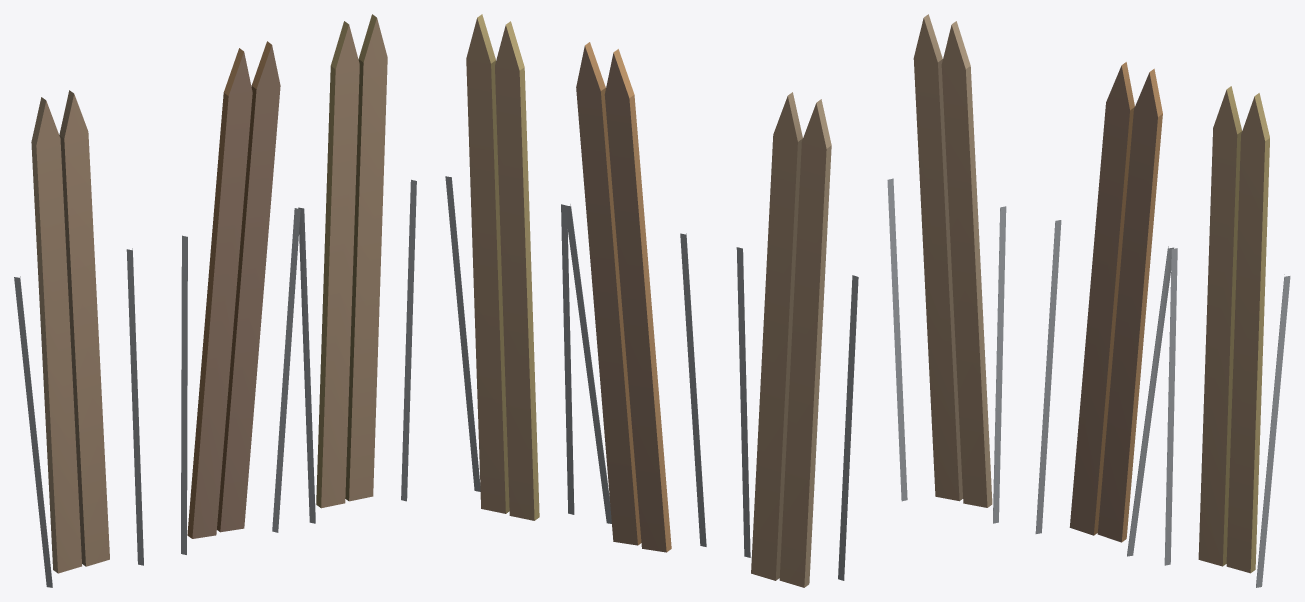
File: skis.lod2.glb
3 renders of one model, left to right at view 1: azimuth 30°, elevation 25°; view 2: azimuth 150°, elevation 25°; view 3: azimuth 330°, elevation 25°, orthographic. The views are drawn at different scales.
Bounding box in the file's own units: 1.5 × 1.7 × 0.124.
